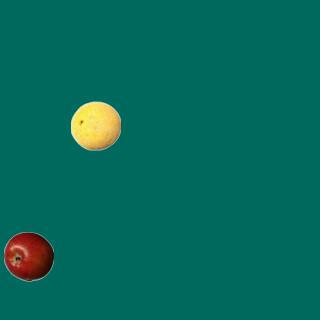Apple Braeburn: (3, 231, 53, 281)
Cantaloupe 1: (70, 100, 120, 150)
